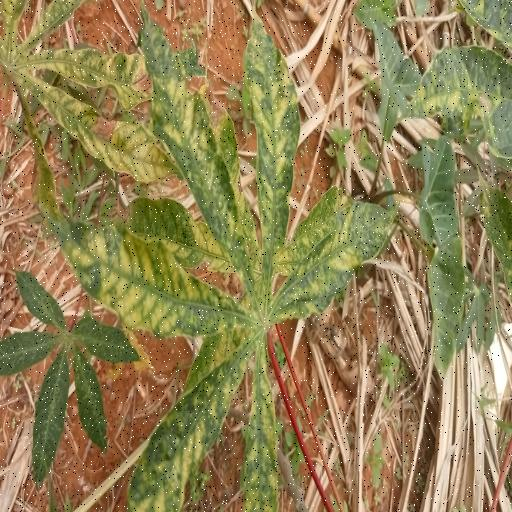Cassava_Mosaic: (42, 0, 402, 512), (0, 253, 141, 489)
